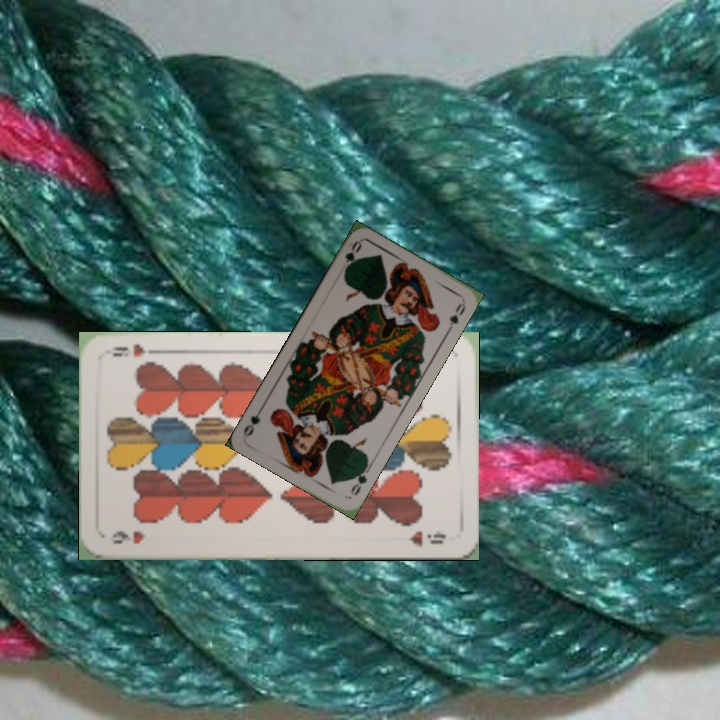GO: (346, 462, 373, 498), (340, 237, 364, 277)
H9: (108, 526, 147, 546)
